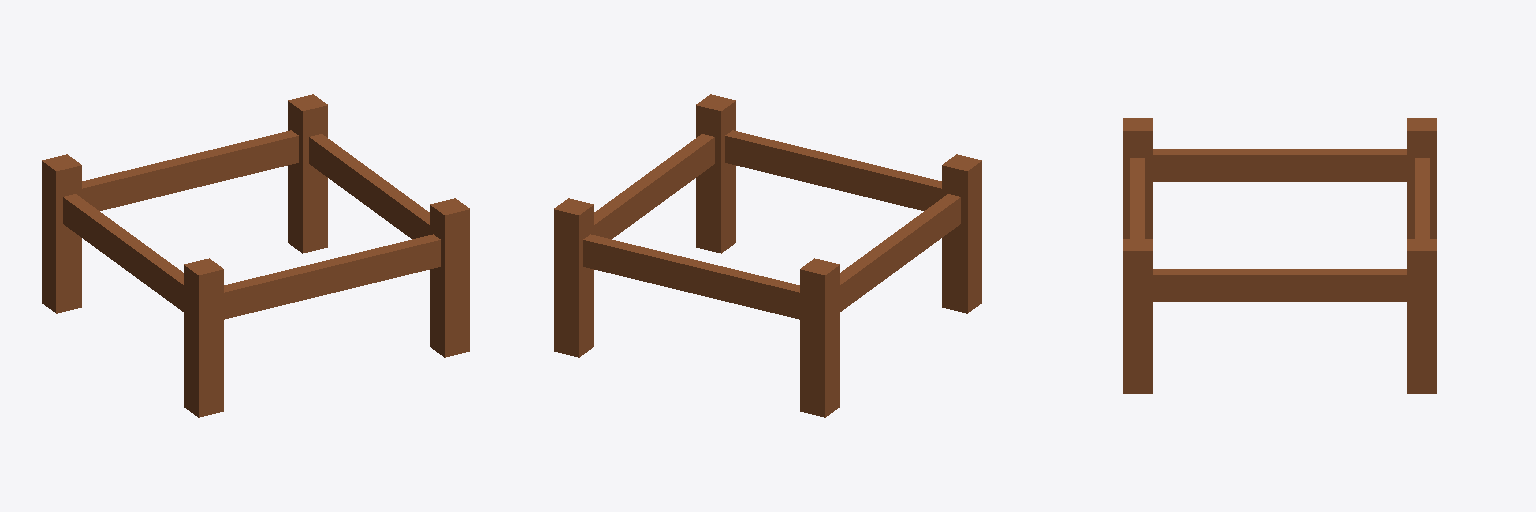
Rendered from ObstacleSmallTileFlat.obj.
The picture shows the model from 3 angles: view 1: azimuth 30°, elevation 25°; view 2: azimuth 150°, elevation 25°; view 3: azimuth 270°, elevation 25°; orthographic projection.
Visible parts, largest first — view 1: woodStructure.002; view 2: woodStructure.002; view 3: woodStructure.002.
Part boxes in pixels (left/top/right/bottom): woodStructure.002: left=42, top=94, right=469, bottom=417; woodStructure.002: left=554, top=94, right=981, bottom=417; woodStructure.002: left=1123, top=118, right=1436, bottom=393.
Size of the model in its own units: 1 by 0.5 by 1.